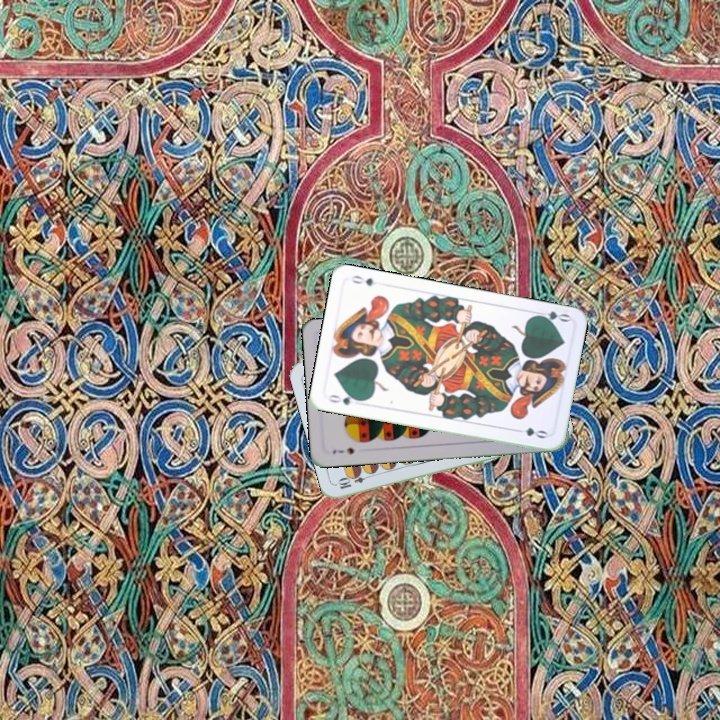E10: (334, 469, 374, 492)
GO: (531, 307, 572, 326), (324, 390, 365, 408)
S7: (329, 444, 357, 457)
